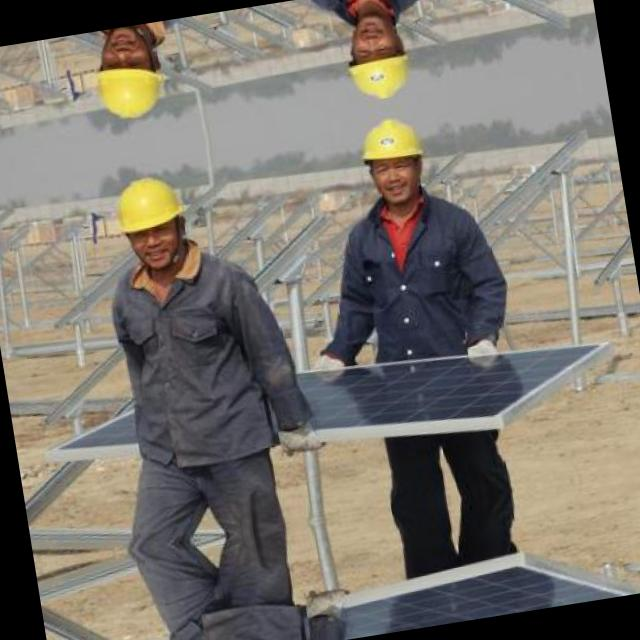helmet: (81, 21, 178, 133), (104, 164, 199, 276), (332, 4, 418, 111), (349, 107, 434, 214)
